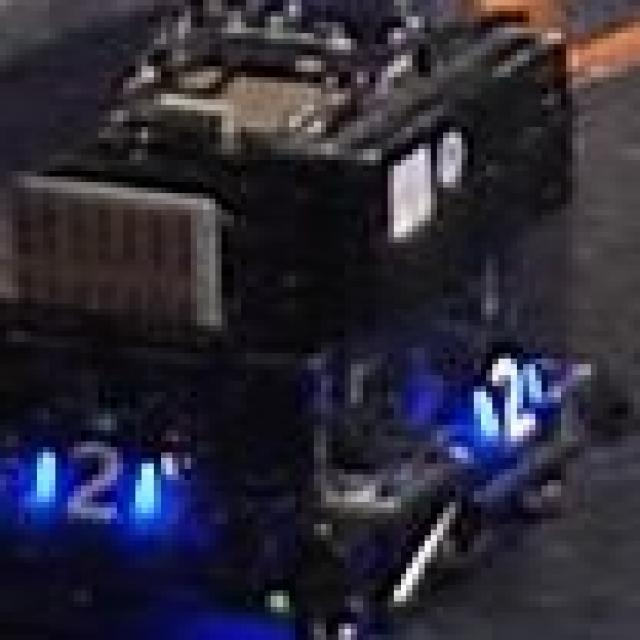B2: (25, 436, 166, 530), (462, 347, 548, 447)
